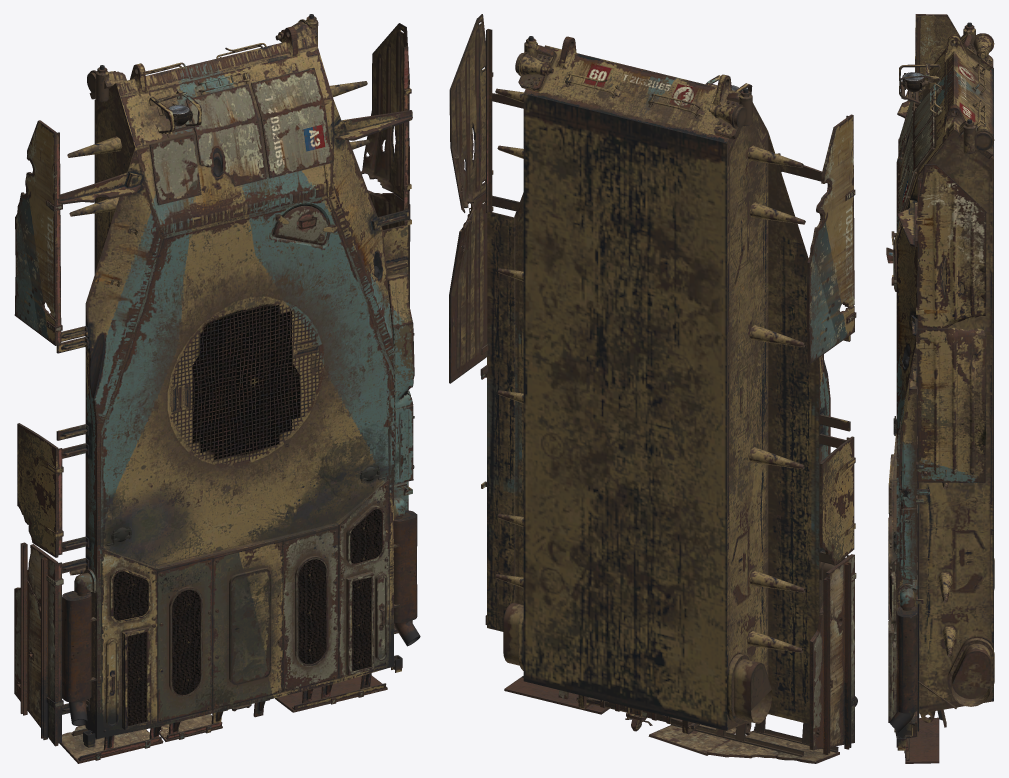
File: Hull_02.glb
The picture shows the model from 3 angles, left to right: view 1: azimuth 30°, elevation 25°; view 2: azimuth 150°, elevation 25°; view 3: azimuth 270°, elevation 25°; orthographic projection. The views are drawn at different scales.
Visible parts, largest first — view 1: set_0_group_0, set_0_group_1; view 2: set_0_group_0, set_0_group_1; view 3: set_0_group_0, set_0_group_1.
Boxes of the visible parts, x1,y1,x2,y2 form: set_0_group_0: (17,14,420,760); set_0_group_1: (14,120,387,763); set_0_group_0: (449,14,857,756); set_0_group_1: (504,114,856,763); set_0_group_0: (886,16,994,761); set_0_group_1: (904,14,960,763).
Size of the model in its own units: 3.85 by 6.7 by 1.05.
3 materials, 2 textured.
